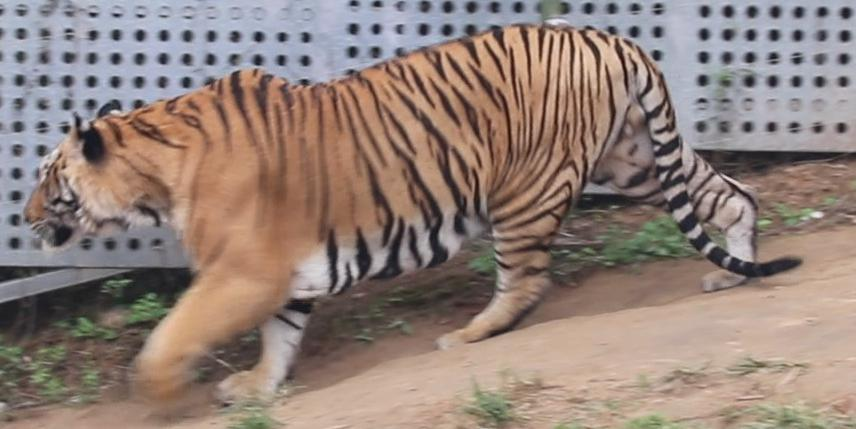tiger: (27, 25, 762, 400)
